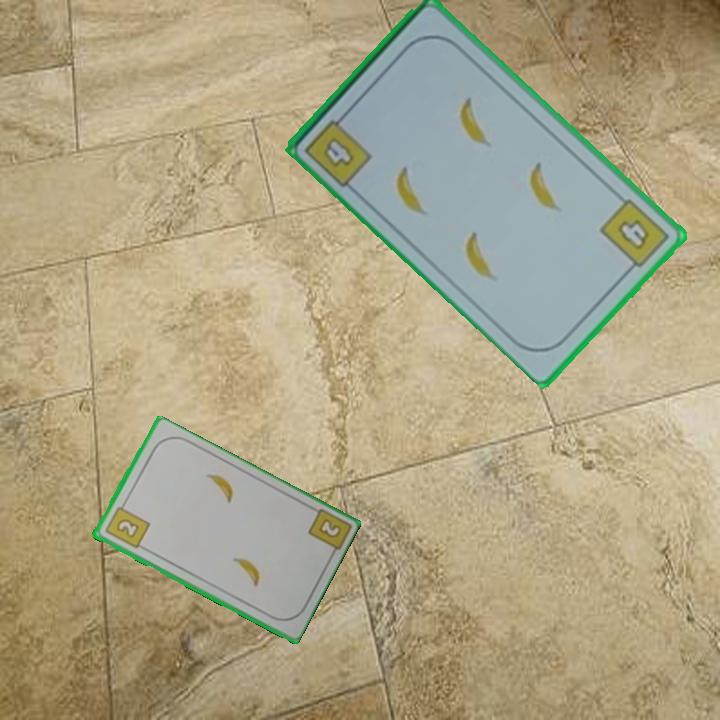2b: (101, 499, 152, 551), (314, 515, 344, 541)
4b: (596, 195, 673, 276), (301, 107, 375, 190)
